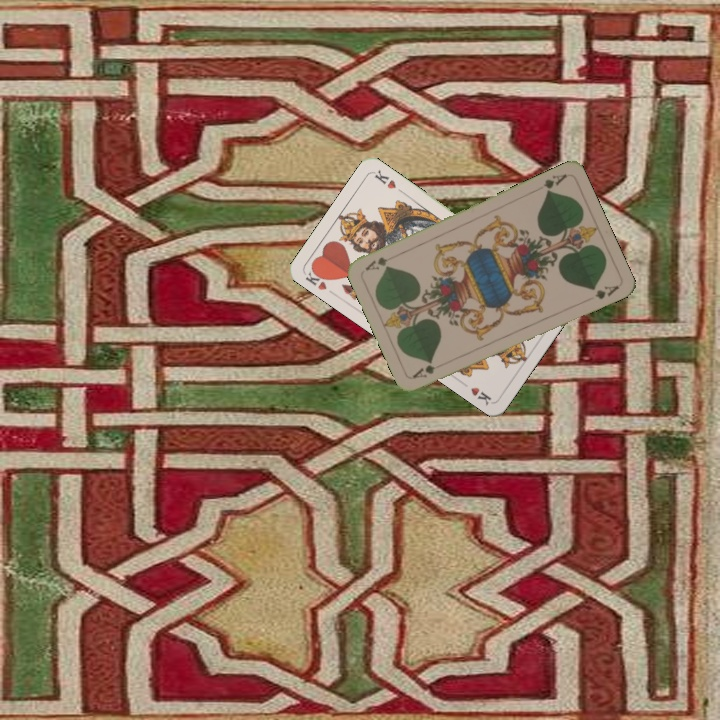GA: (409, 358, 448, 381), (540, 169, 570, 196)
HK: (301, 264, 332, 293)
